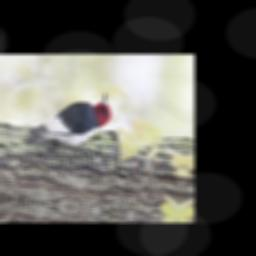Woodpecker: (26, 82, 114, 153)
